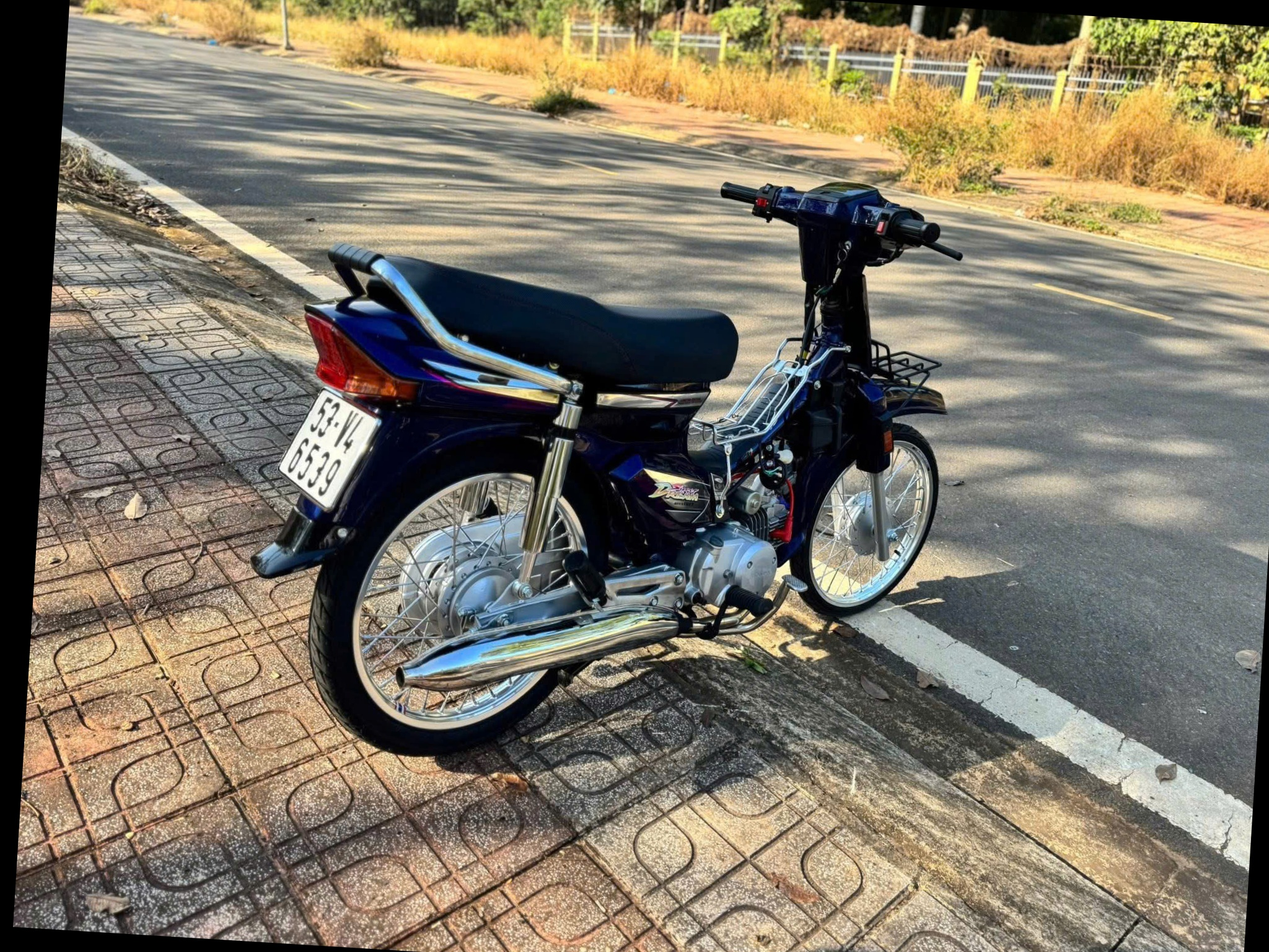Bien-so: (249, 395, 368, 516)
